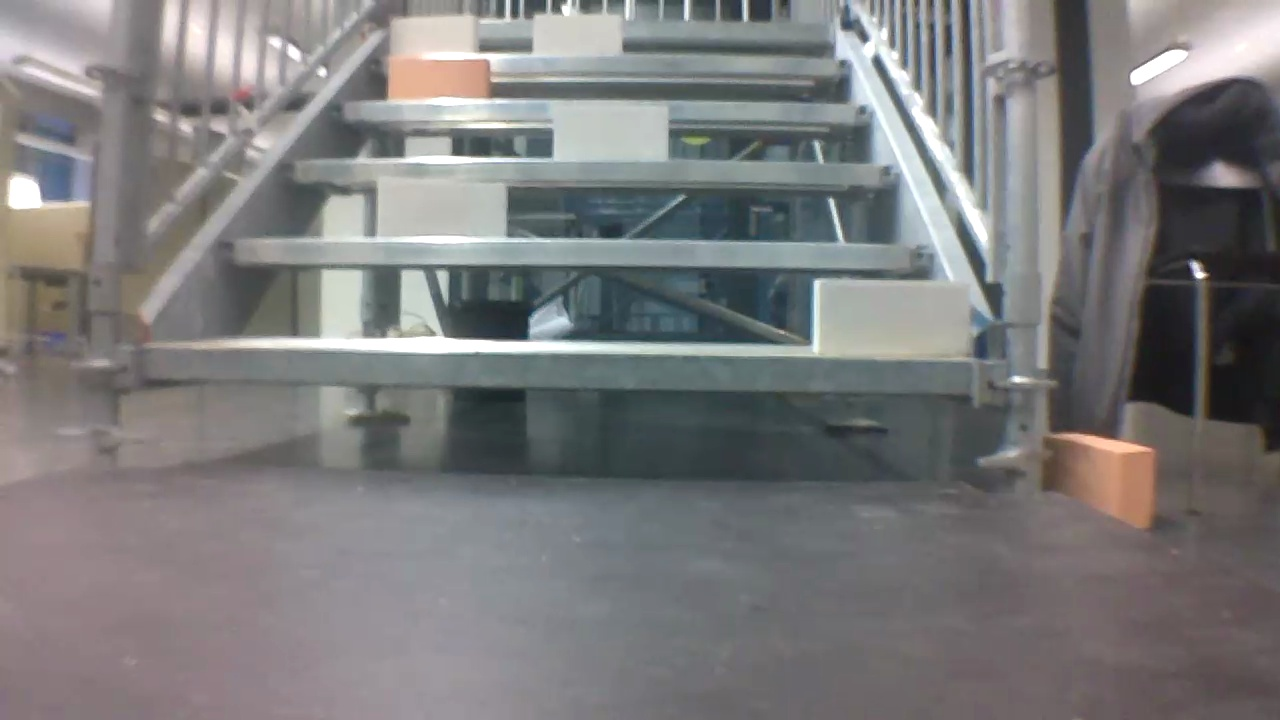brick: (814, 279, 966, 352), (1051, 433, 1152, 528), (377, 181, 505, 237), (553, 105, 666, 160), (390, 56, 490, 99), (534, 14, 621, 53), (392, 18, 478, 54)
edge: (140, 345, 972, 393), (229, 239, 936, 269), (289, 161, 899, 185), (332, 100, 873, 127), (369, 54, 853, 75), (398, 20, 831, 39)
stairs: (76, 2, 1041, 492)
steps: (130, 8, 1001, 417)
